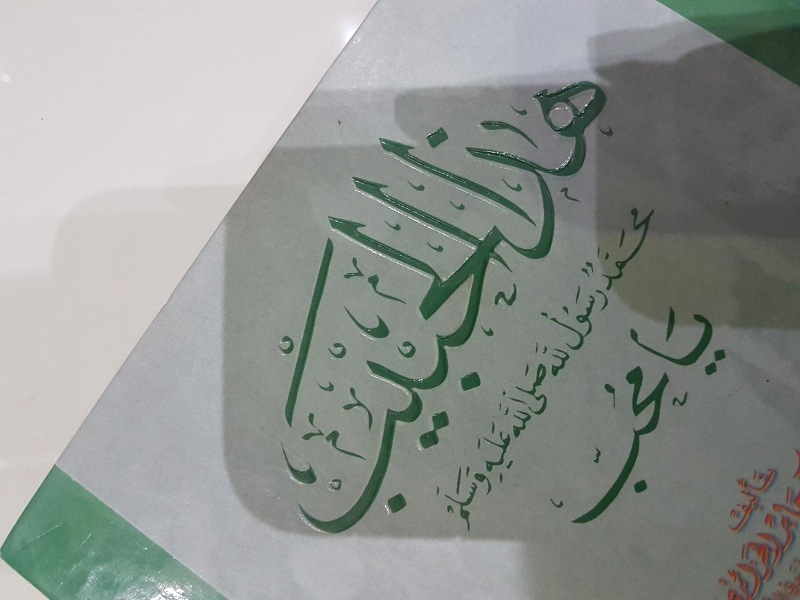text: (369, 149, 384, 552), (385, 149, 400, 552), (401, 149, 416, 552), (417, 149, 432, 552), (433, 149, 448, 552), (449, 149, 464, 552), (465, 149, 480, 552), (481, 149, 496, 552), (497, 149, 512, 552), (513, 149, 528, 552), (529, 149, 544, 552), (545, 149, 556, 552), (449, 28, 464, 271), (465, 28, 480, 271), (481, 28, 496, 271), (497, 28, 512, 271), (513, 28, 528, 271), (529, 28, 544, 271), (545, 28, 560, 271), (561, 28, 576, 271), (577, 28, 592, 271), (593, 28, 608, 271), (609, 28, 624, 271), (545, 353, 560, 543), (561, 353, 576, 543), (577, 353, 592, 543), (593, 353, 608, 543), (609, 353, 624, 543), (625, 353, 640, 543), (641, 353, 656, 543), (657, 353, 672, 543), (673, 353, 688, 543), (361, 149, 368, 552), (689, 353, 701, 543), (534, 353, 544, 543), (577, 205, 592, 295), (593, 205, 608, 295), (609, 205, 624, 295), (625, 205, 640, 295), (641, 205, 656, 295), (657, 295, 672, 385), (673, 295, 688, 385), (689, 295, 704, 385), (705, 295, 720, 385), (721, 295, 736, 385), (577, 277, 592, 355), (593, 277, 608, 355), (721, 459, 736, 535), (737, 459, 752, 535), (753, 459, 768, 535), (497, 420, 512, 490), (465, 466, 480, 535), (769, 459, 781, 535), (545, 351, 557, 420), (657, 205, 666, 295), (533, 351, 544, 420), (513, 391, 528, 440), (545, 337, 560, 380), (481, 466, 490, 535), (712, 459, 720, 535), (796, 447, 800, 599), (529, 391, 541, 440), (561, 337, 574, 380), (650, 295, 656, 385), (737, 295, 743, 385), (481, 462, 496, 497), (513, 420, 520, 490), (446, 28, 448, 271), (609, 277, 615, 355), (467, 462, 480, 497), (505, 391, 512, 440), (537, 337, 544, 380), (492, 420, 496, 490), (460, 466, 464, 535), (625, 28, 626, 271), (575, 205, 576, 295)
